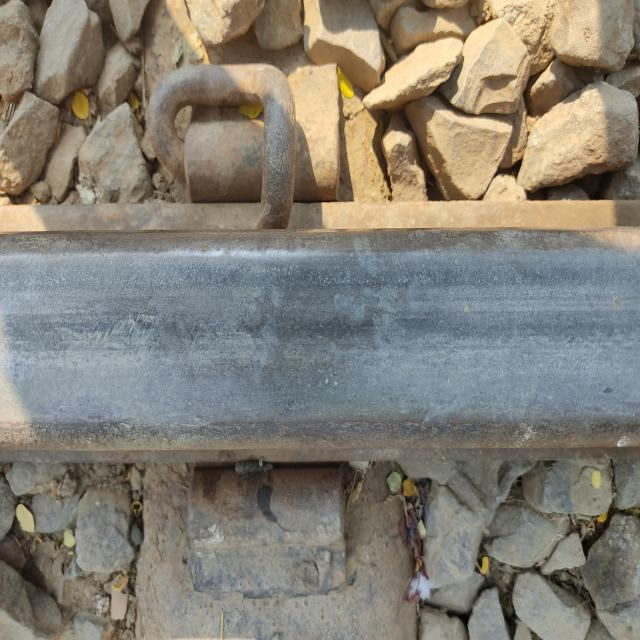Faults: (181, 465, 365, 600)
